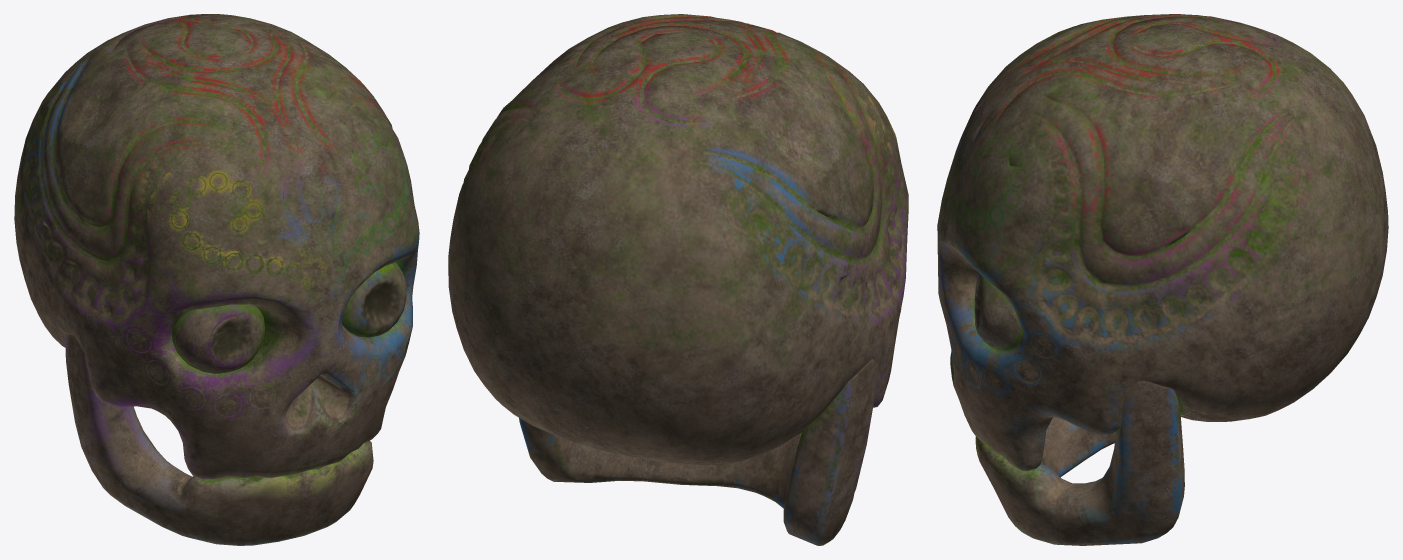
The model's file is skull.fbx.
The picture shows the model from 3 angles, left to right: view 1: azimuth 30°, elevation 25°; view 2: azimuth 150°, elevation 25°; view 3: azimuth 270°, elevation 25°; orthographic projection. The views are drawn at different scales.
Visible parts, largest first — view 1: skull_low; view 2: skull_low; view 3: skull_low.
Boxes of the visible parts, x1,y1,x2,y2 form: skull_low: (14, 14, 419, 545); skull_low: (448, 14, 908, 545); skull_low: (937, 14, 1388, 545).
Bounding box in the file's own units: 208 × 275 × 237.
